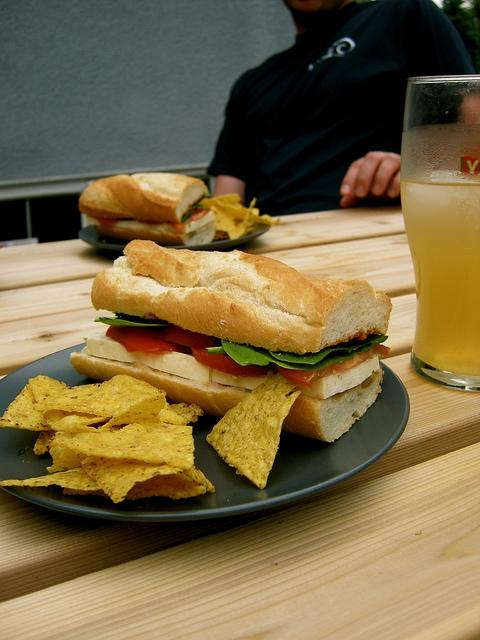tomato: (276, 344, 390, 388), (190, 347, 274, 378), (106, 325, 190, 353), (154, 325, 222, 350), (169, 209, 209, 231), (92, 216, 120, 227), (136, 220, 164, 226)
